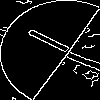I: (25, 25, 82, 61)
